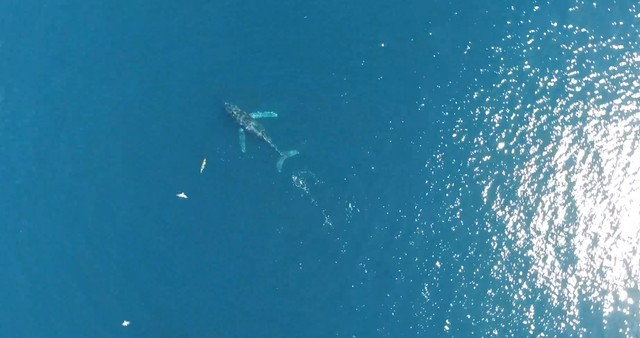whale: (217, 94, 304, 176)
